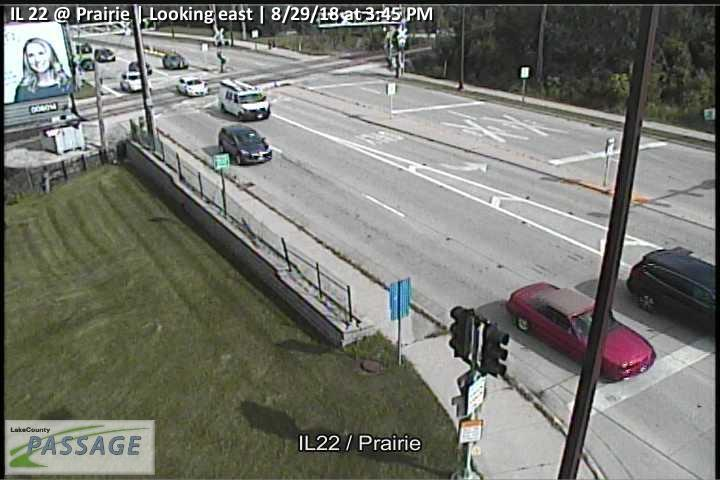SUV: (626, 249, 717, 331), (218, 123, 273, 165), (218, 79, 270, 121), (120, 71, 153, 92), (162, 51, 189, 70)
Sedan: (505, 281, 657, 380), (177, 76, 209, 96)
